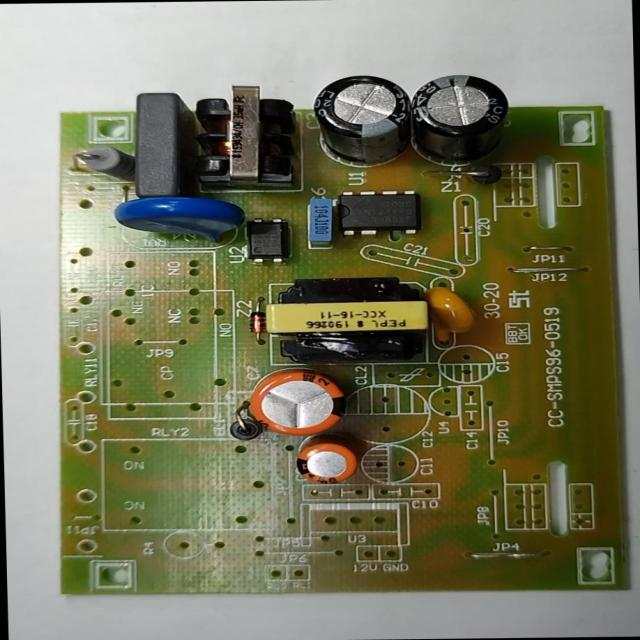Cap1: (230, 366, 358, 438)
Cap2: (284, 433, 366, 488)
Cap3: (301, 70, 420, 172)
Cap4: (400, 69, 527, 175)
MOSFET: (317, 184, 439, 243)
Mov: (104, 190, 252, 252)
Resistor: (76, 139, 142, 180)
Transformer: (257, 275, 433, 370), (184, 80, 298, 194)
